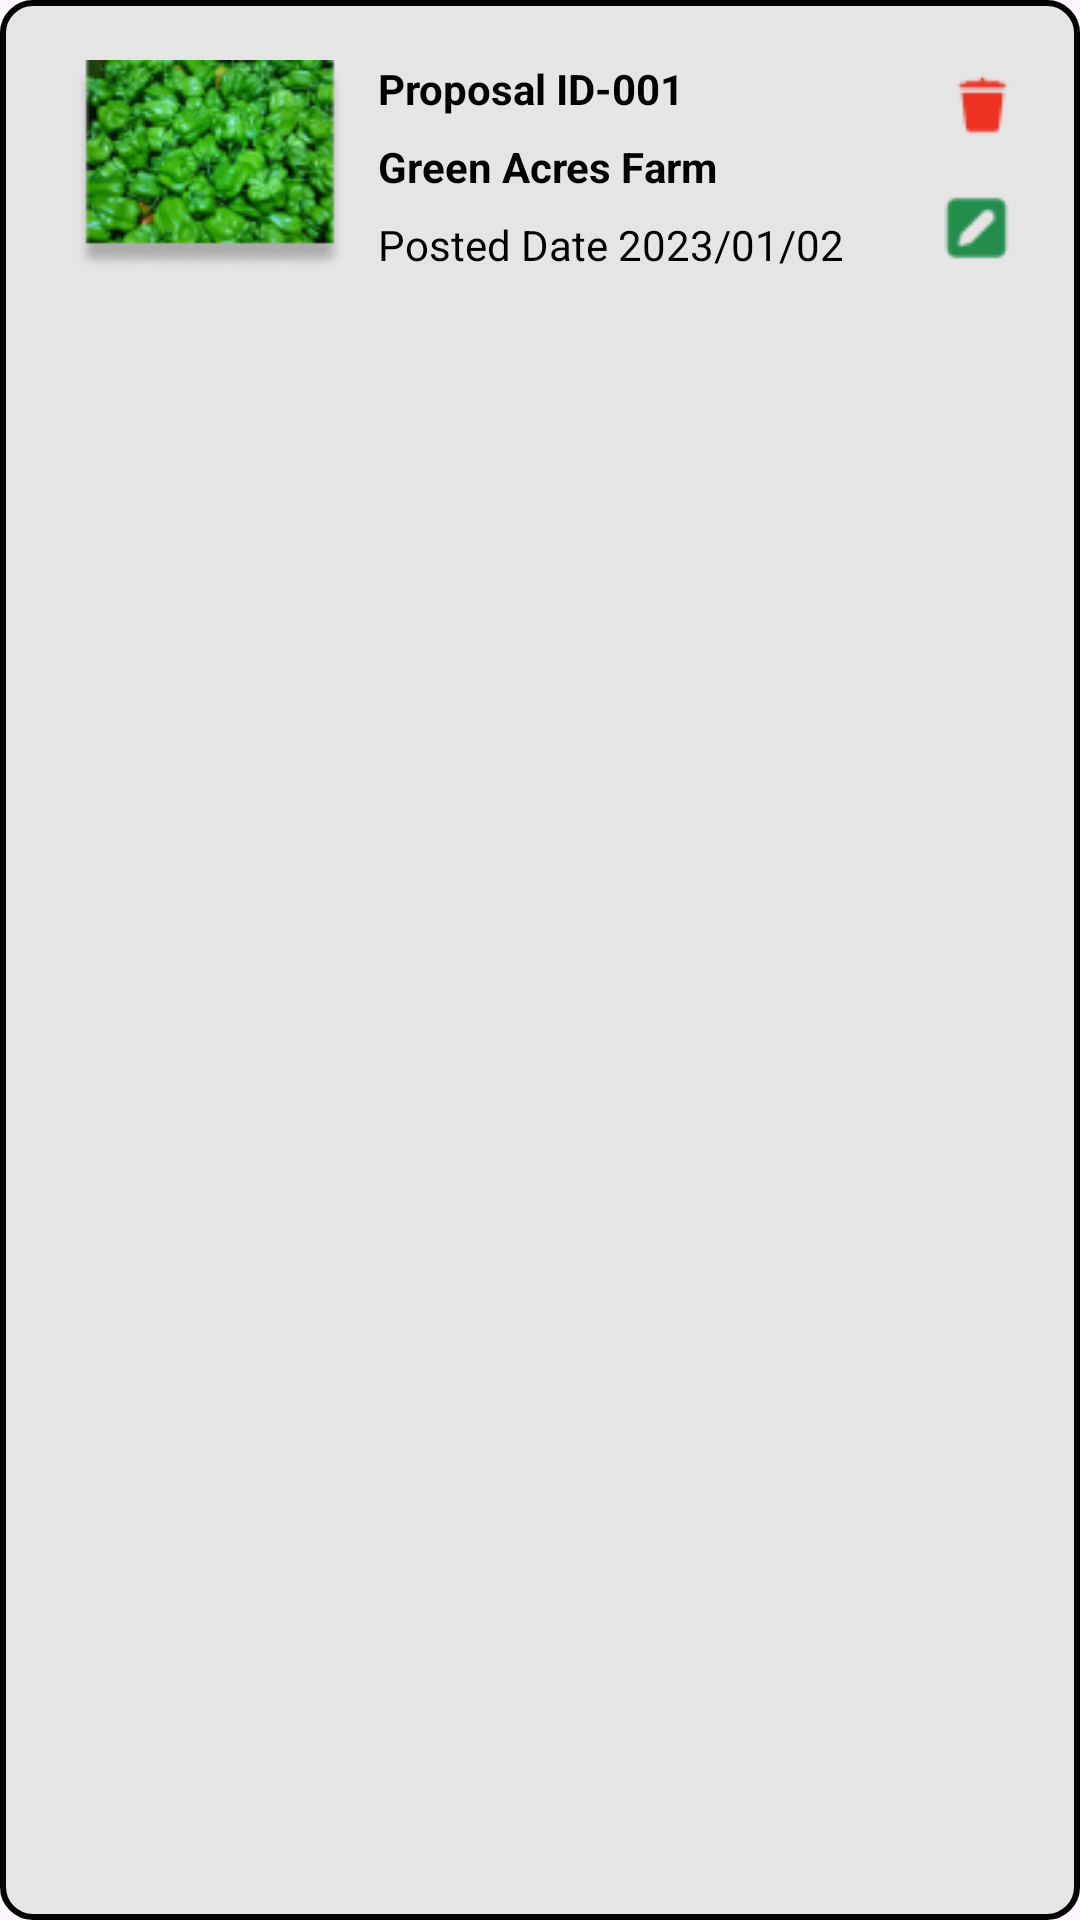

Point at icon controls on the screen. Image size 1080*1920, points as (x,y).
deelete: (982,105)
pen: (976,228)
